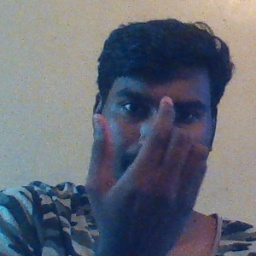U: (87, 92, 201, 245)
